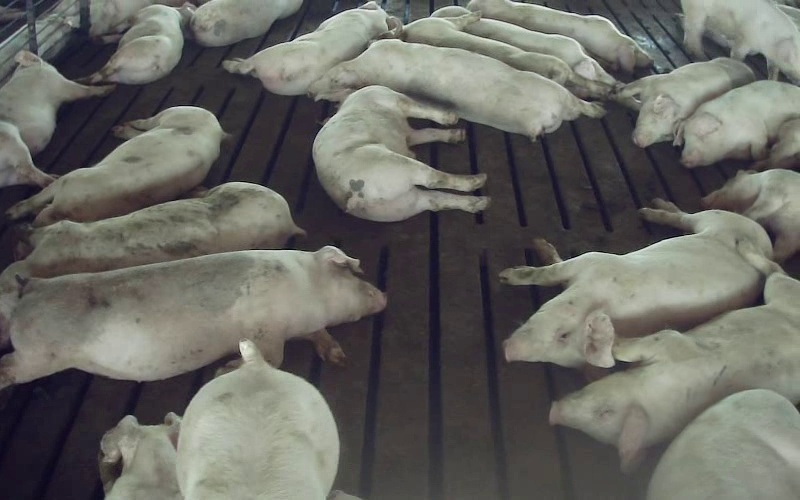pig: (0, 246, 385, 388), (550, 253, 799, 470), (0, 182, 304, 347), (500, 199, 770, 366), (7, 107, 225, 226), (176, 340, 338, 499), (313, 86, 489, 221), (648, 389, 799, 499), (223, 2, 401, 94), (0, 51, 113, 187), (467, 0, 652, 72), (613, 57, 754, 147), (674, 80, 799, 167), (681, 0, 799, 83), (80, 3, 194, 84), (701, 169, 799, 262), (99, 413, 182, 499), (189, 0, 302, 46)
